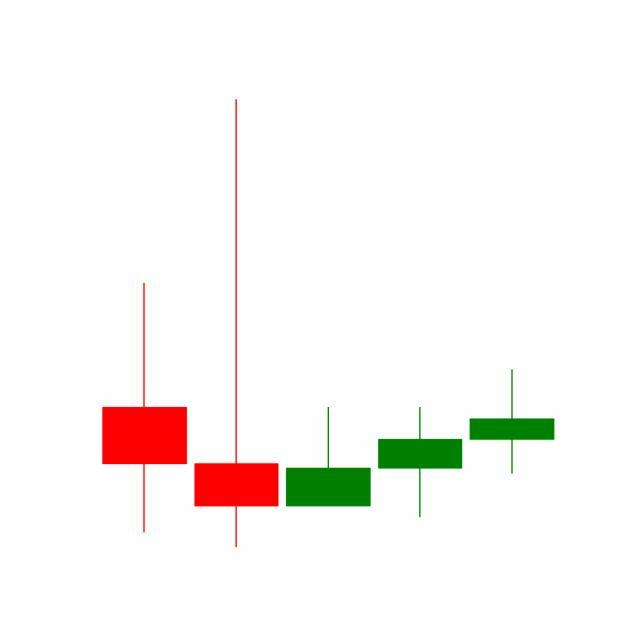Hammer: (374, 405, 468, 519)
